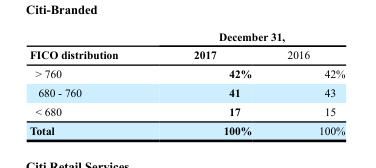table: (28, 29, 344, 136)
table column: (28, 29, 155, 136), (155, 29, 268, 136), (268, 29, 344, 136)
table column header: (28, 29, 344, 64)
table row: (28, 45, 344, 64), (28, 64, 344, 83), (28, 83, 344, 102), (28, 102, 344, 120), (28, 29, 344, 45), (28, 120, 344, 136)
table spanning cell: (28, 29, 155, 64), (155, 29, 344, 45)
